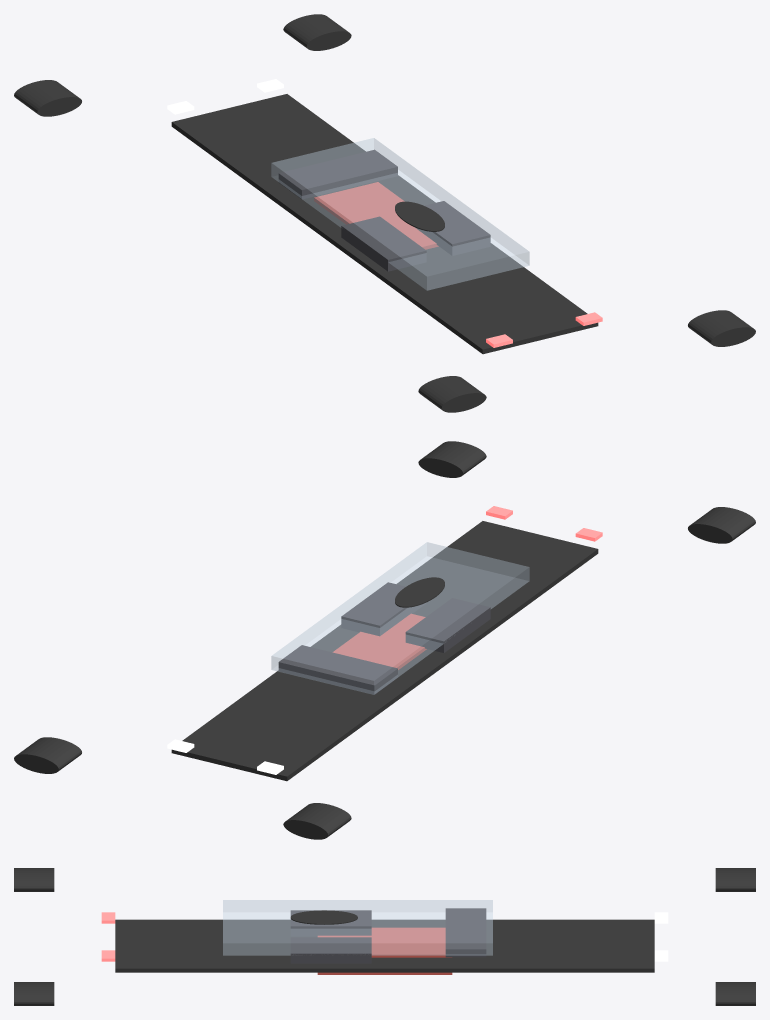
The model's file is blender_vehicle.glb.
3 renders of one model, top to bottom at view 1: azimuth 30°, elevation 25°; view 2: azimuth 150°, elevation 25°; view 3: azimuth 270°, elevation 25°, orthographic. The views are drawn at different scales.
Visible parts, largest first — view 1: Chassis, Glass, Dashboard, Body, Seat_L, Seat_R, Wheel_FR, Wheel_RL, Wheel_FL, Wheel_RR, SteeringWheel; view 2: Chassis, Glass, Dashboard, Seat_L, Body, Seat_R, Wheel_FL, Wheel_RR, Wheel_FR, Wheel_RL, SteeringWheel; view 3: Chassis, Glass, Body, Seat_R, Dashboard, Seat_L, Wheel_FL, Wheel_FR, Wheel_RL, Wheel_RR, SteeringWheel.
Boxes of the visible parts, <box> form: Chassis: <box>171,94,598,354</box>; Glass: <box>271,138,529,290</box>; Dashboard: <box>278,149,397,199</box>; Body: <box>314,182,438,249</box>; Seat_L: <box>341,216,426,271</box>; Seat_R: <box>415,201,490,255</box>; Wheel_FR: <box>283,14,351,50</box>; Wheel_RL: <box>418,376,486,412</box>; Wheel_FL: <box>14,80,81,116</box>; Wheel_RR: <box>688,310,755,346</box>; SteeringWheel: <box>395,201,444,231</box>; Chassis: <box>171,521,598,781</box>; Glass: <box>271,542,529,694</box>; Dashboard: <box>278,645,397,694</box>; Seat_L: <box>405,598,490,652</box>; Body: <box>333,613,426,669</box>; Seat_R: <box>341,582,426,636</box>; Wheel_FL: <box>283,803,351,839</box>; Wheel_RR: <box>418,441,486,477</box>; Wheel_FR: <box>14,737,81,773</box>; Wheel_RL: <box>688,507,755,543</box>; SteeringWheel: <box>395,577,444,607</box>; Chassis: <box>115,919,654,972</box>; Glass: <box>223,900,492,955</box>; Body: <box>317,927,452,974</box>; Seat_R: <box>290,937,371,963</box>; Dashboard: <box>445,908,486,957</box>; Seat_L: <box>290,910,371,936</box>; Wheel_FL: <box>715,868,755,891</box>; Wheel_FR: <box>715,982,755,1005</box>; Wheel_RL: <box>14,868,54,891</box>; Wheel_RR: <box>14,982,54,1005</box>; SteeringWheel: <box>290,910,357,924</box>.
Bounding box in the file's own units: 9.8 × 1.52 × 23.1.
